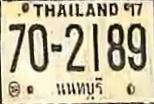0: (28, 23, 48, 71)
1: (92, 22, 98, 71)
2: (65, 23, 84, 71)
7: (8, 22, 25, 72)
8: (106, 22, 124, 70)
9: (127, 22, 146, 70)
NBI: (52, 75, 106, 101)
